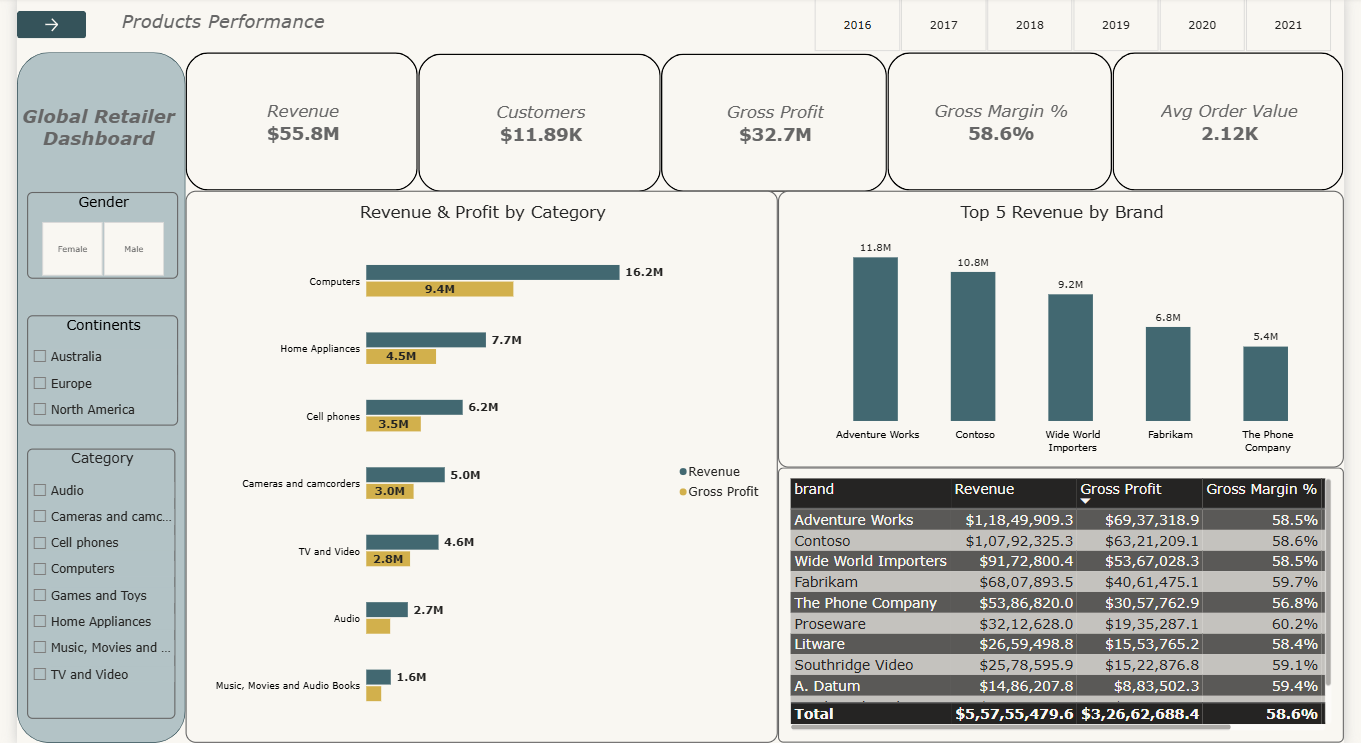

The page's visual inventory and layout, read from the dashboard file:
{"tool":"powerbi","page":{"name":"Product Performance","canvas":[1920,1080],"ordinal":1},"visuals":[{"type":"shape","box":[0,80.1,243.9,999.2],"z":0},{"type":"textbox","box":[100.1,0,405.9,80.1],"z":1000},{"type":"slicer","fields":{"Values":["Calendar.Year"]},"box":[1133.9,0,786.3,80.1],"z":2000},{"type":"actionButton","box":[0,20,100,40],"z":3000},{"type":"cardVisual","title":"Total Revenue","fields":{"Data":["table.Revenue"]},"box":[243.9,80.1,336.7,200.2],"z":4000},{"type":"cardVisual","title":"Total Revenue","fields":{"Data":["table.Gross Profit"]},"box":[931.8,81.9,327.6,200.2],"z":5000},{"type":"cardVisual","title":"Total Revenue","fields":{"Data":["table.Gross Margin %"]},"box":[1259.5,80.1,325.8,200.2],"z":6000},{"type":"cardVisual","title":"Total Revenue","fields":{"Data":["table.Customers"]},"box":[580.6,81.9,351.3,200.2],"z":7000},{"type":"cardVisual","title":"Total Revenue","fields":{"Data":["table.Avg Order Value"]},"box":[1585.3,80.1,334.9,200.2],"z":8000},{"type":"slicer","title":"Gender","fields":{"Values":["public customers.Gender"]},"box":[14.6,282.1,218.4,125.6],"z":9000},{"type":"slicer","title":"Continents","fields":{"Values":["public customers.continent"]},"box":[14.6,460.5,218.4,160.2],"z":10000},{"type":"textbox","box":[3.6,154.7,229.3,78.3],"z":11000},{"type":"slicer","title":"Category","fields":{"Values":["public products.category"]},"box":[14.6,653.4,214.8,391.3],"z":12000},{"type":"clusteredBarChart","title":"Revenue & Profit by Category","fields":{"Category":["public products.category"],"Y":["table.Revenue","table.Gross Profit"]},"box":[243.9,280.3,857.2,799],"z":13000},{"type":"columnChart","title":"Top 5 Revenue by Brand","fields":{"Category":["public products.brand"],"Y":["table.Revenue"]},"box":[1101.1,280.3,819,400.4],"z":14000},{"type":"tableEx","title":"Revenue","fields":{"Values":["public products.brand","table.Revenue","table.Gross Profit","table.Gross Margin %","table.Online Share %"]},"box":[1101.1,680.7,819,398.6],"z":15000}]}

Visuals, with their boxes on the page's 1920x1080 design canvas (x1, y1, x2, y2). These are canvas units, not pixel positions in the 1361x743 screenshot, which may show the page scaled, cropped or inside an application window:
shape: (0,80,244,1079)
textbox: (100,0,506,80)
slicer - Calendar.Year: (1134,0,1920,80)
actionButton: (0,20,100,60)
"Total Revenue" cardVisual: (244,80,581,280)
"Total Revenue" cardVisual: (932,82,1259,282)
"Total Revenue" cardVisual: (1260,80,1585,280)
"Total Revenue" cardVisual: (581,82,932,282)
"Total Revenue" cardVisual: (1585,80,1920,280)
"Gender" slicer: (15,282,233,408)
"Continents" slicer: (15,460,233,621)
textbox: (4,155,233,233)
"Category" slicer: (15,653,229,1045)
"Revenue & Profit by Category" clusteredBarChart: (244,280,1101,1079)
"Top 5 Revenue by Brand" columnChart: (1101,280,1920,681)
"Revenue" tableEx: (1101,681,1920,1079)
